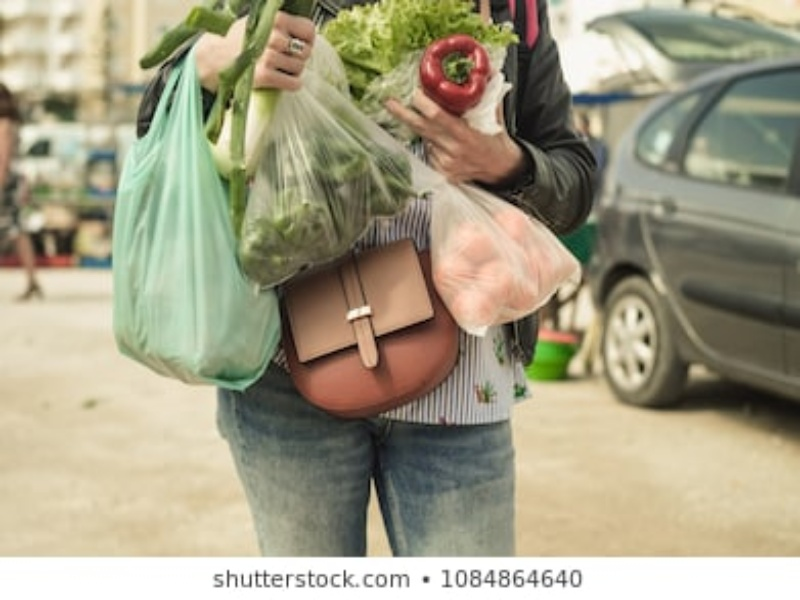plastic-bag: (109, 49, 282, 392), (236, 26, 438, 287), (429, 164, 585, 336)
